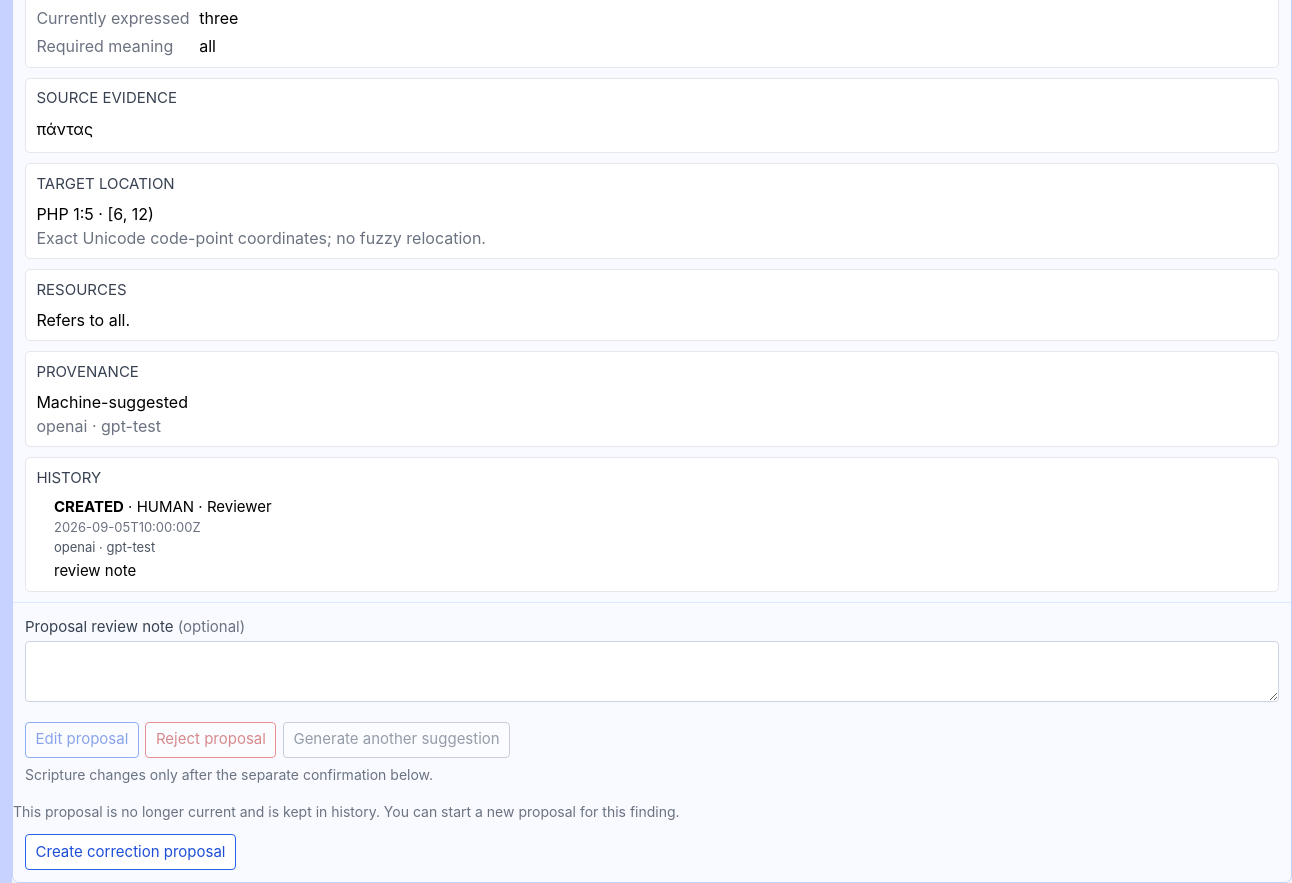
CorrectionReviewPanel › #315: a new proposal after a rejection › offers the provider suggestion action when a provider is configured
The image size is (1292, 883).
(page scrolled)
What coordinates should you click on to do the following:
click the button "Create correction proposal"
I would click on:
 (131, 852)
Its box is [25,834,236,870].
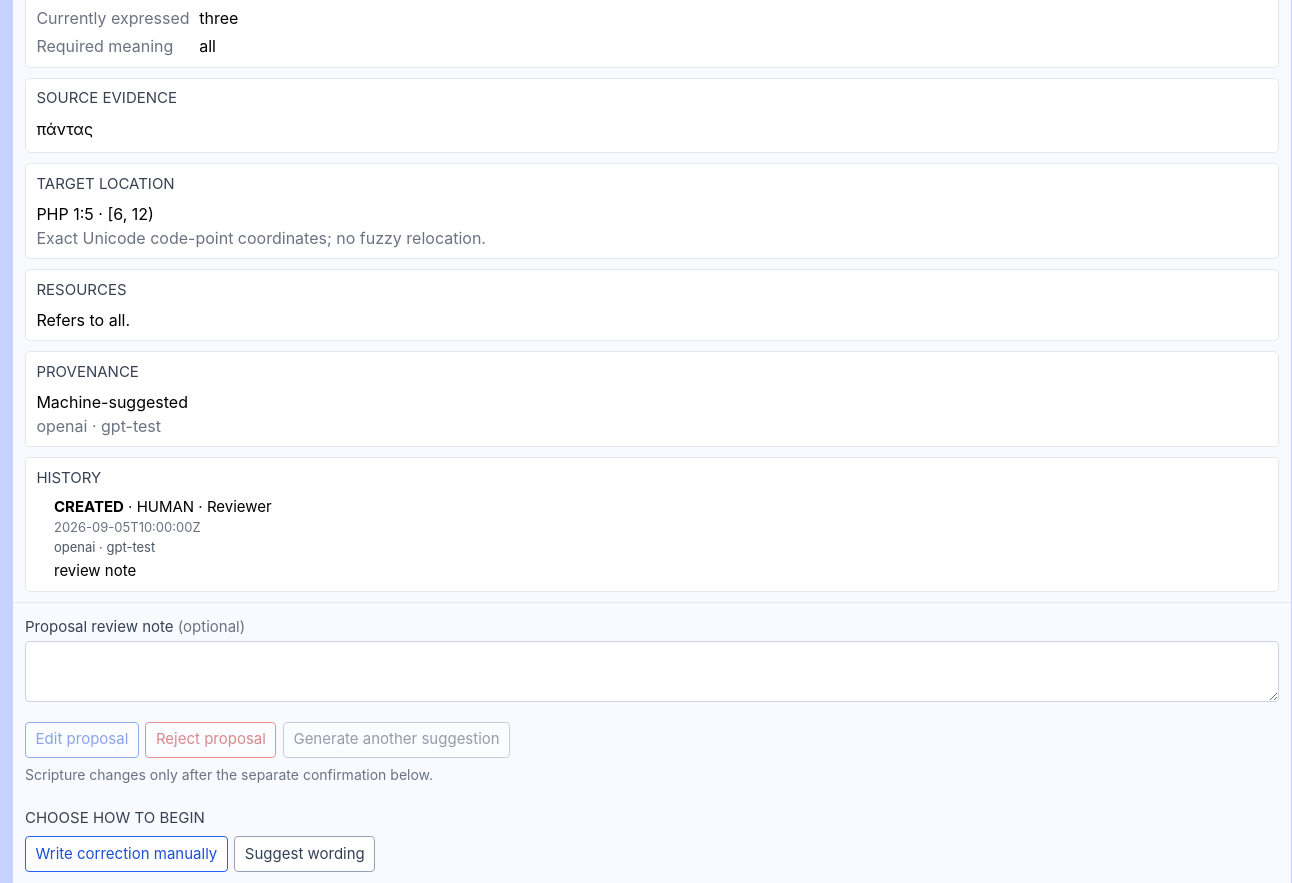
Result: the button "Suggest wording" is shown at [234,836,376,872]
